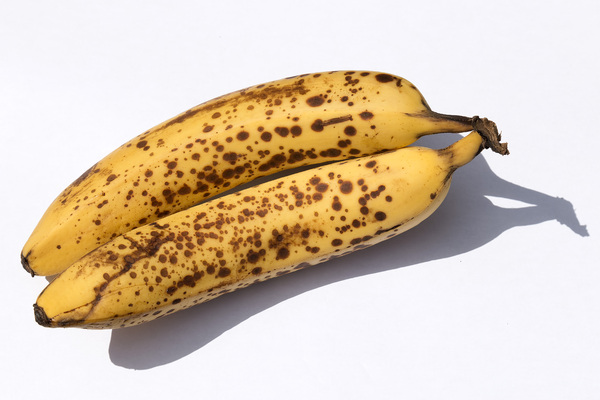rotten_banana: (22, 71, 505, 268), (34, 148, 452, 331)
